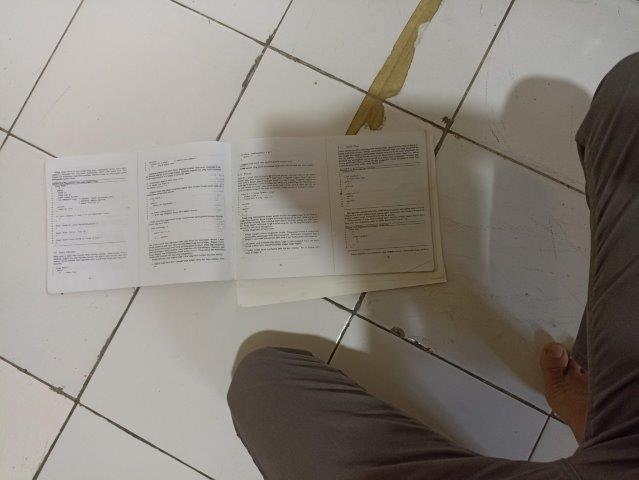kertas: (43, 129, 447, 306)
